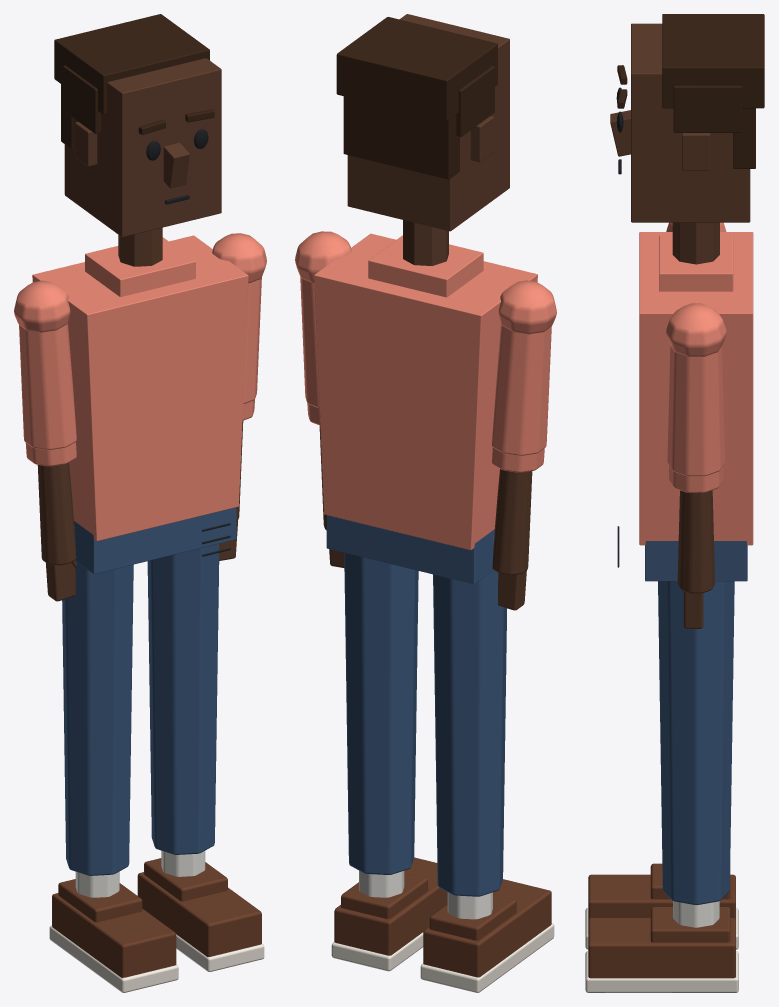
File: Diner_A.glb
The picture shows the model from 3 angles, left to right: view 1: azimuth 30°, elevation 25°; view 2: azimuth 150°, elevation 25°; view 3: azimuth 270°, elevation 25°; orthographic projection. The views are drawn at different scales.
Parts seen in each view (by area): view 1: Diner_A_Torso, Diner_A_LegL, Diner_A_Head, Diner_A_LegR, Diner_A_ArmL, Diner_A_ForearmL, Diner_A_ArmR, Diner_A_ForearmR; view 2: Diner_A_Torso, Diner_A_LegL, Diner_A_Head, Diner_A_LegR, Diner_A_ArmL, Diner_A_ForearmL, Diner_A_ArmR, Diner_A_ForearmR; view 3: Diner_A_LegR, Diner_A_Head, Diner_A_Torso, Diner_A_ArmR, Diner_A_ForearmR, Diner_A_LegL.
Boxes of the visible parts, box(x1,y1,x2,y2) form: Diner_A_Torso: box(32, 227, 248, 573); Diner_A_LegL: box(49, 526, 178, 992); Diner_A_Head: box(54, 14, 221, 237); Diner_A_LegR: box(137, 544, 264, 971); Diner_A_ArmL: box(14, 280, 76, 449); Diner_A_ForearmL: box(25, 442, 76, 601); Diner_A_ArmR: box(212, 233, 266, 403); Diner_A_ForearmR: box(219, 399, 254, 560); Diner_A_Torso: box(314, 220, 537, 584); Diner_A_LegL: box(420, 535, 554, 992); Diner_A_Head: box(336, 14, 509, 231); Diner_A_LegR: box(331, 553, 447, 971); Diner_A_ArmL: box(492, 280, 556, 455); Diner_A_ForearmL: box(492, 447, 544, 610); Diner_A_ArmR: box(295, 231, 351, 408); Diner_A_ForearmR: box(307, 403, 344, 567); Diner_A_LegR: box(585, 581, 738, 992); Diner_A_Head: box(610, 14, 764, 222); Diner_A_Torso: box(617, 222, 753, 581); Diner_A_ArmR: box(666, 303, 726, 476); Diner_A_ForearmR: box(669, 465, 723, 628); Diner_A_LegL: box(585, 863, 738, 949).
Bounding box in the file's own units: 0.5128 × 1.78 × 0.315.
